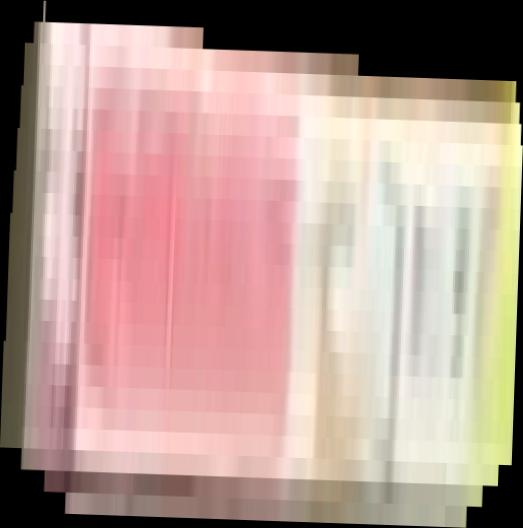flat: (1, 1, 523, 528)
